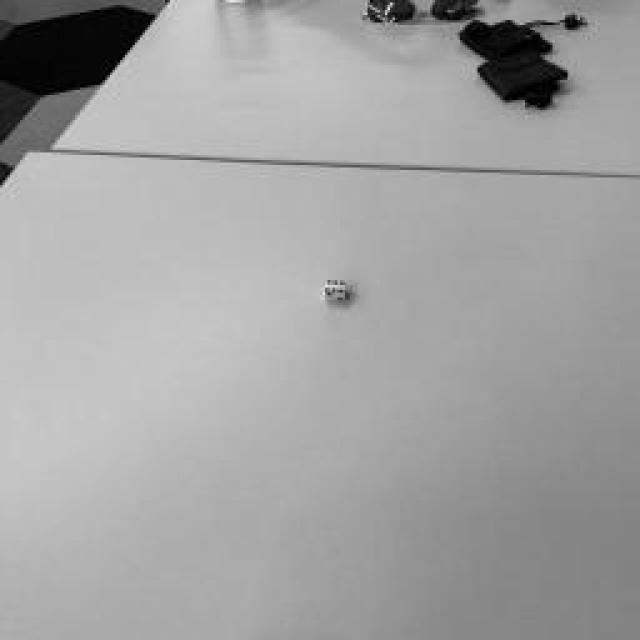dice_6: (324, 281, 346, 294)
